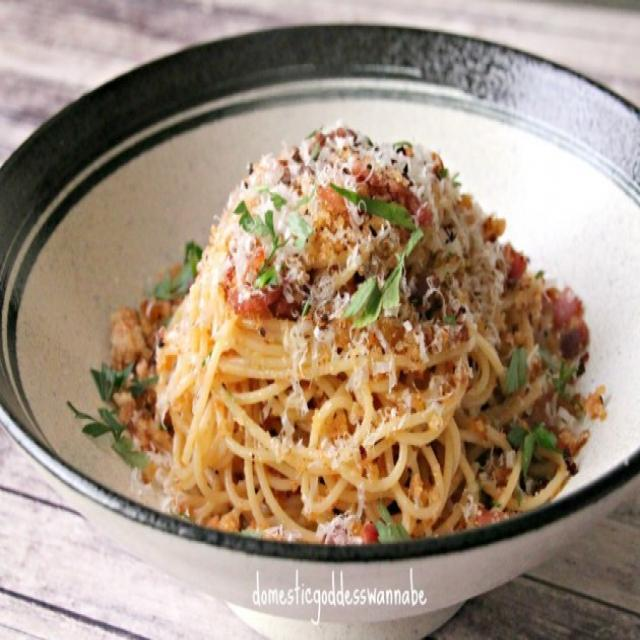Oil pasta: (121, 61, 601, 588)
